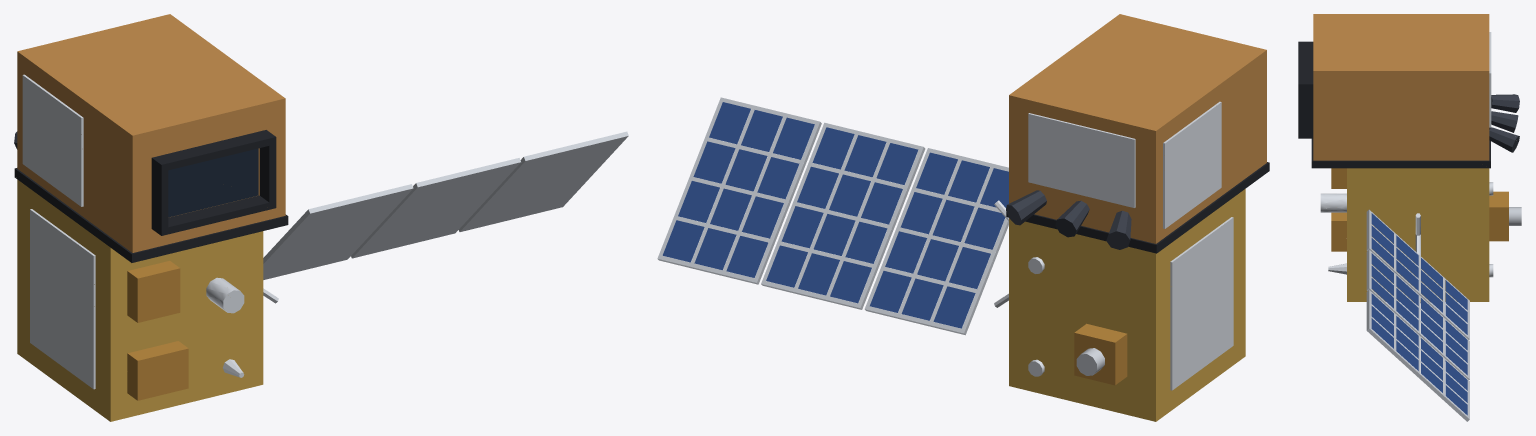
File: sentinel-2.glb
The picture shows the model from 3 angles, left to right: view 1: azimuth 30°, elevation 25°; view 2: azimuth 150°, elevation 25°; view 3: azimuth 270°, elevation 25°; orthographic projection. The views are drawn at different scales.
Visible parts, largest first — view 1: foil, body, solar-panel; view 2: foil, body, solar-panel; view 3: foil, body, solar-panel.
Boxes of the visible parts, box(x1,y1,x2,y2) form: foil: box(17, 14, 285, 421); body: box(14, 74, 628, 389); solar-panel: box(168, 148, 258, 217); foil: box(1009, 14, 1266, 421); body: box(657, 97, 1269, 390); solar-panel: box(662, 102, 1008, 328); foil: box(1313, 14, 1508, 301); body: box(1298, 32, 1521, 421); solar-panel: box(1371, 213, 1467, 415).
Bounding box in the file's own units: 6.27 × 3.55 × 2.98.
